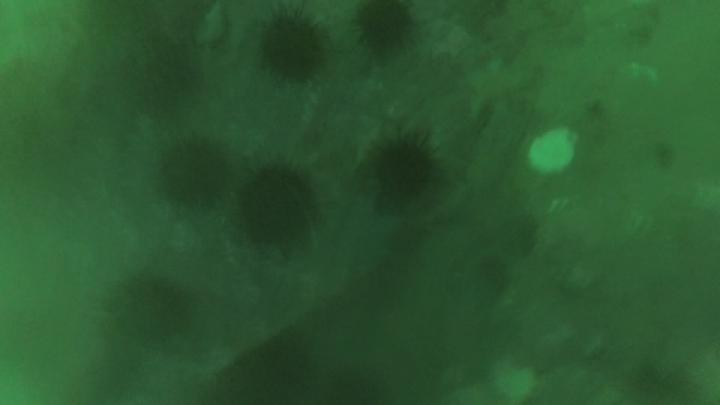echinus: (241, 170, 317, 246), (263, 14, 327, 81), (373, 143, 440, 207), (163, 144, 221, 205), (253, 336, 306, 402), (357, 1, 414, 56)
scallop: (530, 130, 579, 176)
